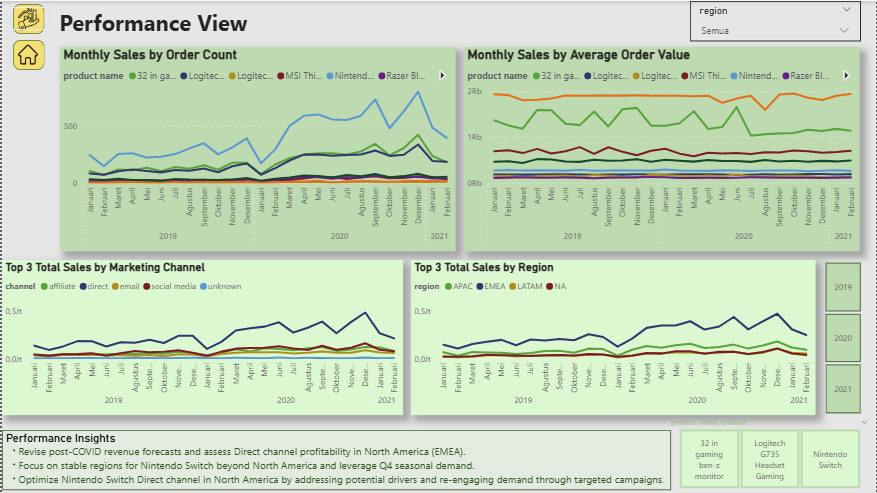

The dashboard page shown, as its layout file describes it:
{"tool":"powerbi","page":{"name":"Performance","canvas":[1280,720],"ordinal":2},"visuals":[{"type":"lineChart","title":"Monthly Sales by Order Count","fields":{"Category":["orders_cleaned_.purchase_year","orders_cleaned_.purchase_date_cleaned.Variasi.Hierarki Tanggal.Bulan"],"Series":["orders_cleaned_.product_name_cleaned"],"Y":["CountNonNull(orders_cleaned_.order_id)"]},"box":[84.8,67.2,579.2,299.2],"z":0},{"type":"shape","box":[15.8,4.8,46,43.9],"z":1000,"group":"g2"},{"type":"shape","box":[16,57.6,46.4,43.8],"z":1000,"group":"g1"},{"type":"lineChart","title":"Monthly Sales by Average Order Value","fields":{"Category":["orders_cleaned_.purchase_year","orders_cleaned_.purchase_date_cleaned.Variasi.Hierarki Tanggal.Bulan"],"Y":["Avg(orders_cleaned_.price ($))"],"Series":["orders_cleaned_.product_name_cleaned"]},"box":[676.8,67.2,579.2,299.2],"z":1000},{"type":"image","box":[0,9.7,78.2,33.7],"z":2000,"group":"g2"},{"type":"lineChart","title":"Top 3 Total Sales by Marketing Channel","fields":{"Category":["orders_cleaned_.purchase_year","orders_cleaned_.purchase_date_cleaned.Variasi.Hierarki Tanggal.Bulan"],"Y":["Sum(orders_cleaned_.price ($))"],"Series":["orders_cleaned_.channel_cleaned"]},"box":[0,379.2,587.2,227.2],"z":2000},{"type":"slicer","fields":{"Values":["orders_cleaned_.product_name_cleaned"]},"box":[966.4,606.4,313.6,113.6],"z":3000},{"type":"lineChart","title":"Top 3 Total Sales by Region","fields":{"Category":["orders_cleaned_.purchase_year","orders_cleaned_.purchase_date_cleaned.Variasi.Hierarki Tanggal.Bulan"],"Y":["Sum(orders_cleaned_.price ($))"],"Series":["orders_cleaned_.region"]},"box":[598.4,379.2,592,227.2],"z":4000},{"type":"slicer","fields":{"Values":["orders_cleaned_.purchase_date_cleaned.Variasi.Hierarki Tanggal.Tahun"]},"box":[1179.2,376,100.8,233.6],"z":5000},{"type":"slicer","fields":{"Values":["orders_cleaned_.region"]},"box":[1006.4,0,249.6,59.2],"z":6000},{"type":"group","id":"g1","title":"Grup 1","box":[16,57.6,46.4,44.8],"z":7000},{"type":"group","id":"g2","title":"Grup 1","box":[0,4.8,78.4,44.8],"z":8000},{"type":"textbox","box":[78.4,4.8,300.8,57.6],"z":9000},{"type":"textbox","title":"Performance Insights","box":[0,627.2,979.2,88],"z":10000},{"type":"image","box":[23.2,59.8,29.3,36.6],"z":10002,"group":"g1"}]}

Visuals, with their boxes in screenshot pixels (x1, y1, x2, y2), scaled from the page's 1280x720 canvas onto the 877x493 screenshot:
"Monthly Sales by Order Count" lineChart: Rect(58, 46, 455, 251)
shape: Rect(11, 3, 42, 33)
shape: Rect(11, 39, 43, 69)
"Monthly Sales by Average Order Value" lineChart: Rect(464, 46, 861, 251)
image: Rect(0, 7, 54, 30)
"Top 3 Total Sales by Marketing Channel" lineChart: Rect(0, 260, 402, 415)
slicer - orders_cleaned_.product_name_cleaned: Rect(662, 415, 876, 492)
"Top 3 Total Sales by Region" lineChart: Rect(410, 260, 816, 415)
slicer - orders_cleaned_.purchase_date_cleaned.Variasi.Hierarki Tanggal.Tahun: Rect(808, 257, 876, 417)
slicer - orders_cleaned_.region: Rect(690, 0, 861, 41)
"Grup 1" group: Rect(11, 39, 43, 70)
"Grup 1" group: Rect(0, 3, 54, 34)
textbox: Rect(54, 3, 260, 43)
"Performance Insights" textbox: Rect(0, 429, 671, 490)
image: Rect(16, 41, 36, 66)
